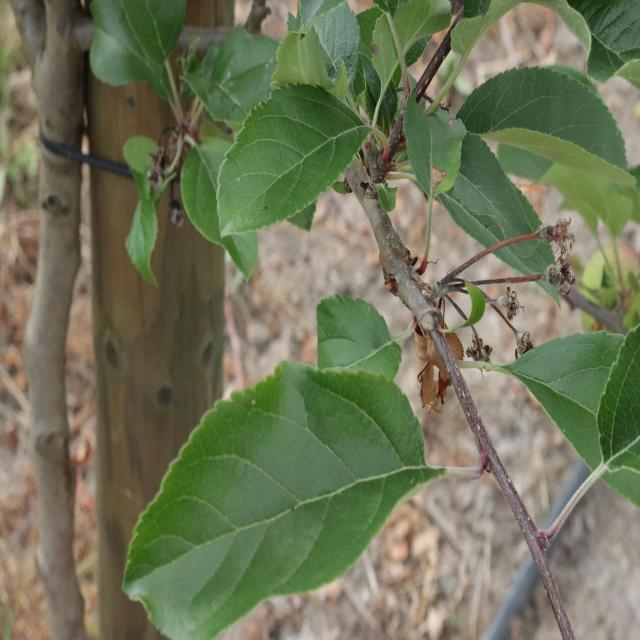-FireBlight-: (414, 309, 470, 409)
